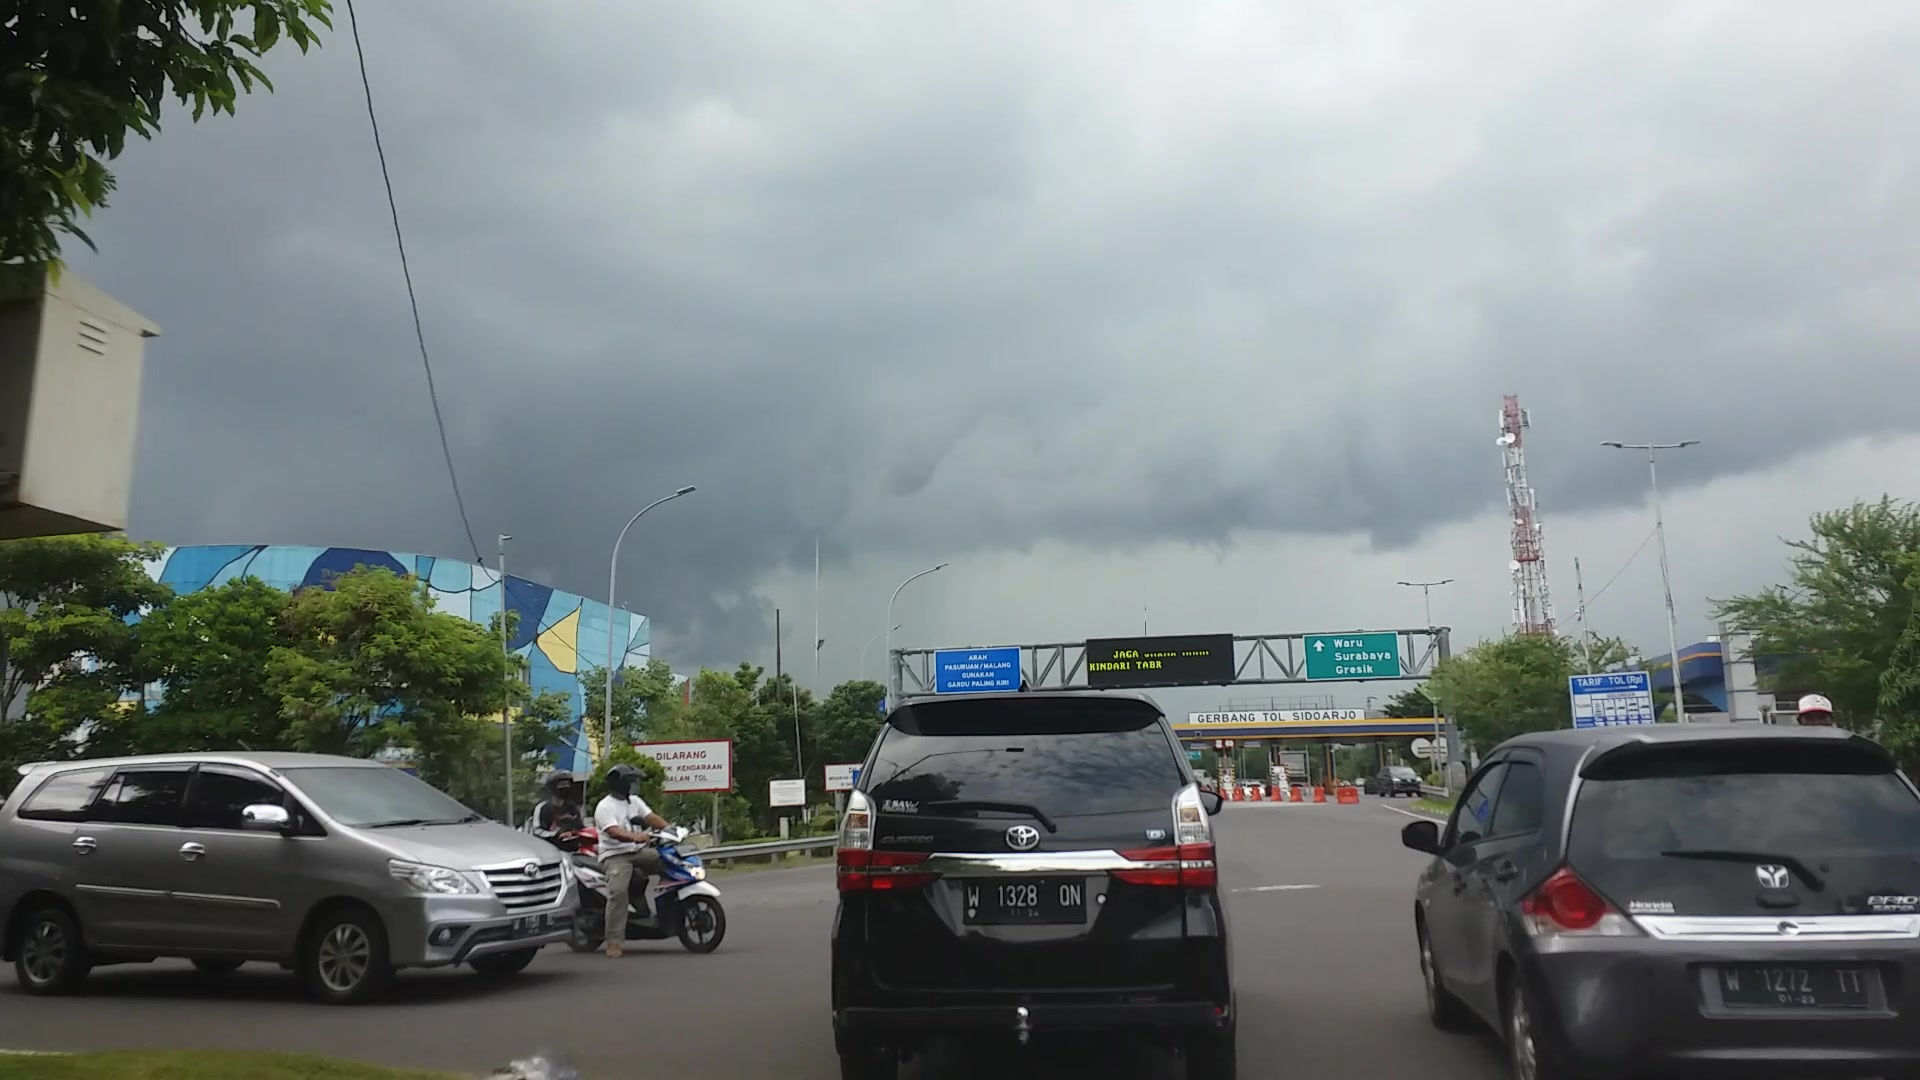plate_positive: (1718, 964, 1869, 1007), (963, 878, 1087, 924)
